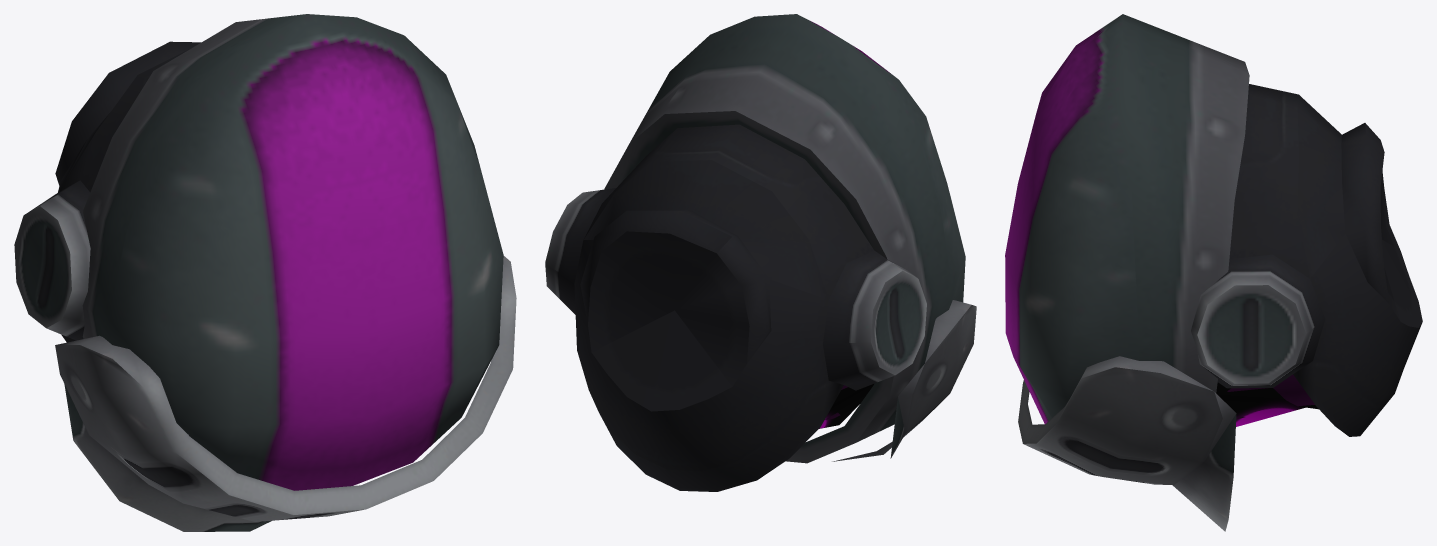
The model's file is Cap.glb.
3 views of the same model, side by side, from view 1: azimuth 30°, elevation 25°; view 2: azimuth 150°, elevation 25°; view 3: azimuth 270°, elevation 25° (orthographic). The views are drawn at different scales.
Parts seen in each view (by area): view 1: cap.model-Mesh[0]; view 2: cap.model-Mesh[0], face.part_model_face-Mesh[0]; view 3: cap.model-Mesh[0], face.part_model_face-Mesh[0].
Boxes of the visible parts, bbox=[...] form: cap.model-Mesh[0]: bbox=[14, 14, 516, 531]; cap.model-Mesh[0]: bbox=[545, 14, 976, 491]; face.part_model_face-Mesh[0]: bbox=[819, 384, 873, 428]; cap.model-Mesh[0]: bbox=[1005, 14, 1422, 531]; face.part_model_face-Mesh[0]: bbox=[1216, 382, 1318, 426].
Size of the model in its own units: 0.5266 by 0.6848 by 0.5234.
Materials: 2 (2 with a texture image).
